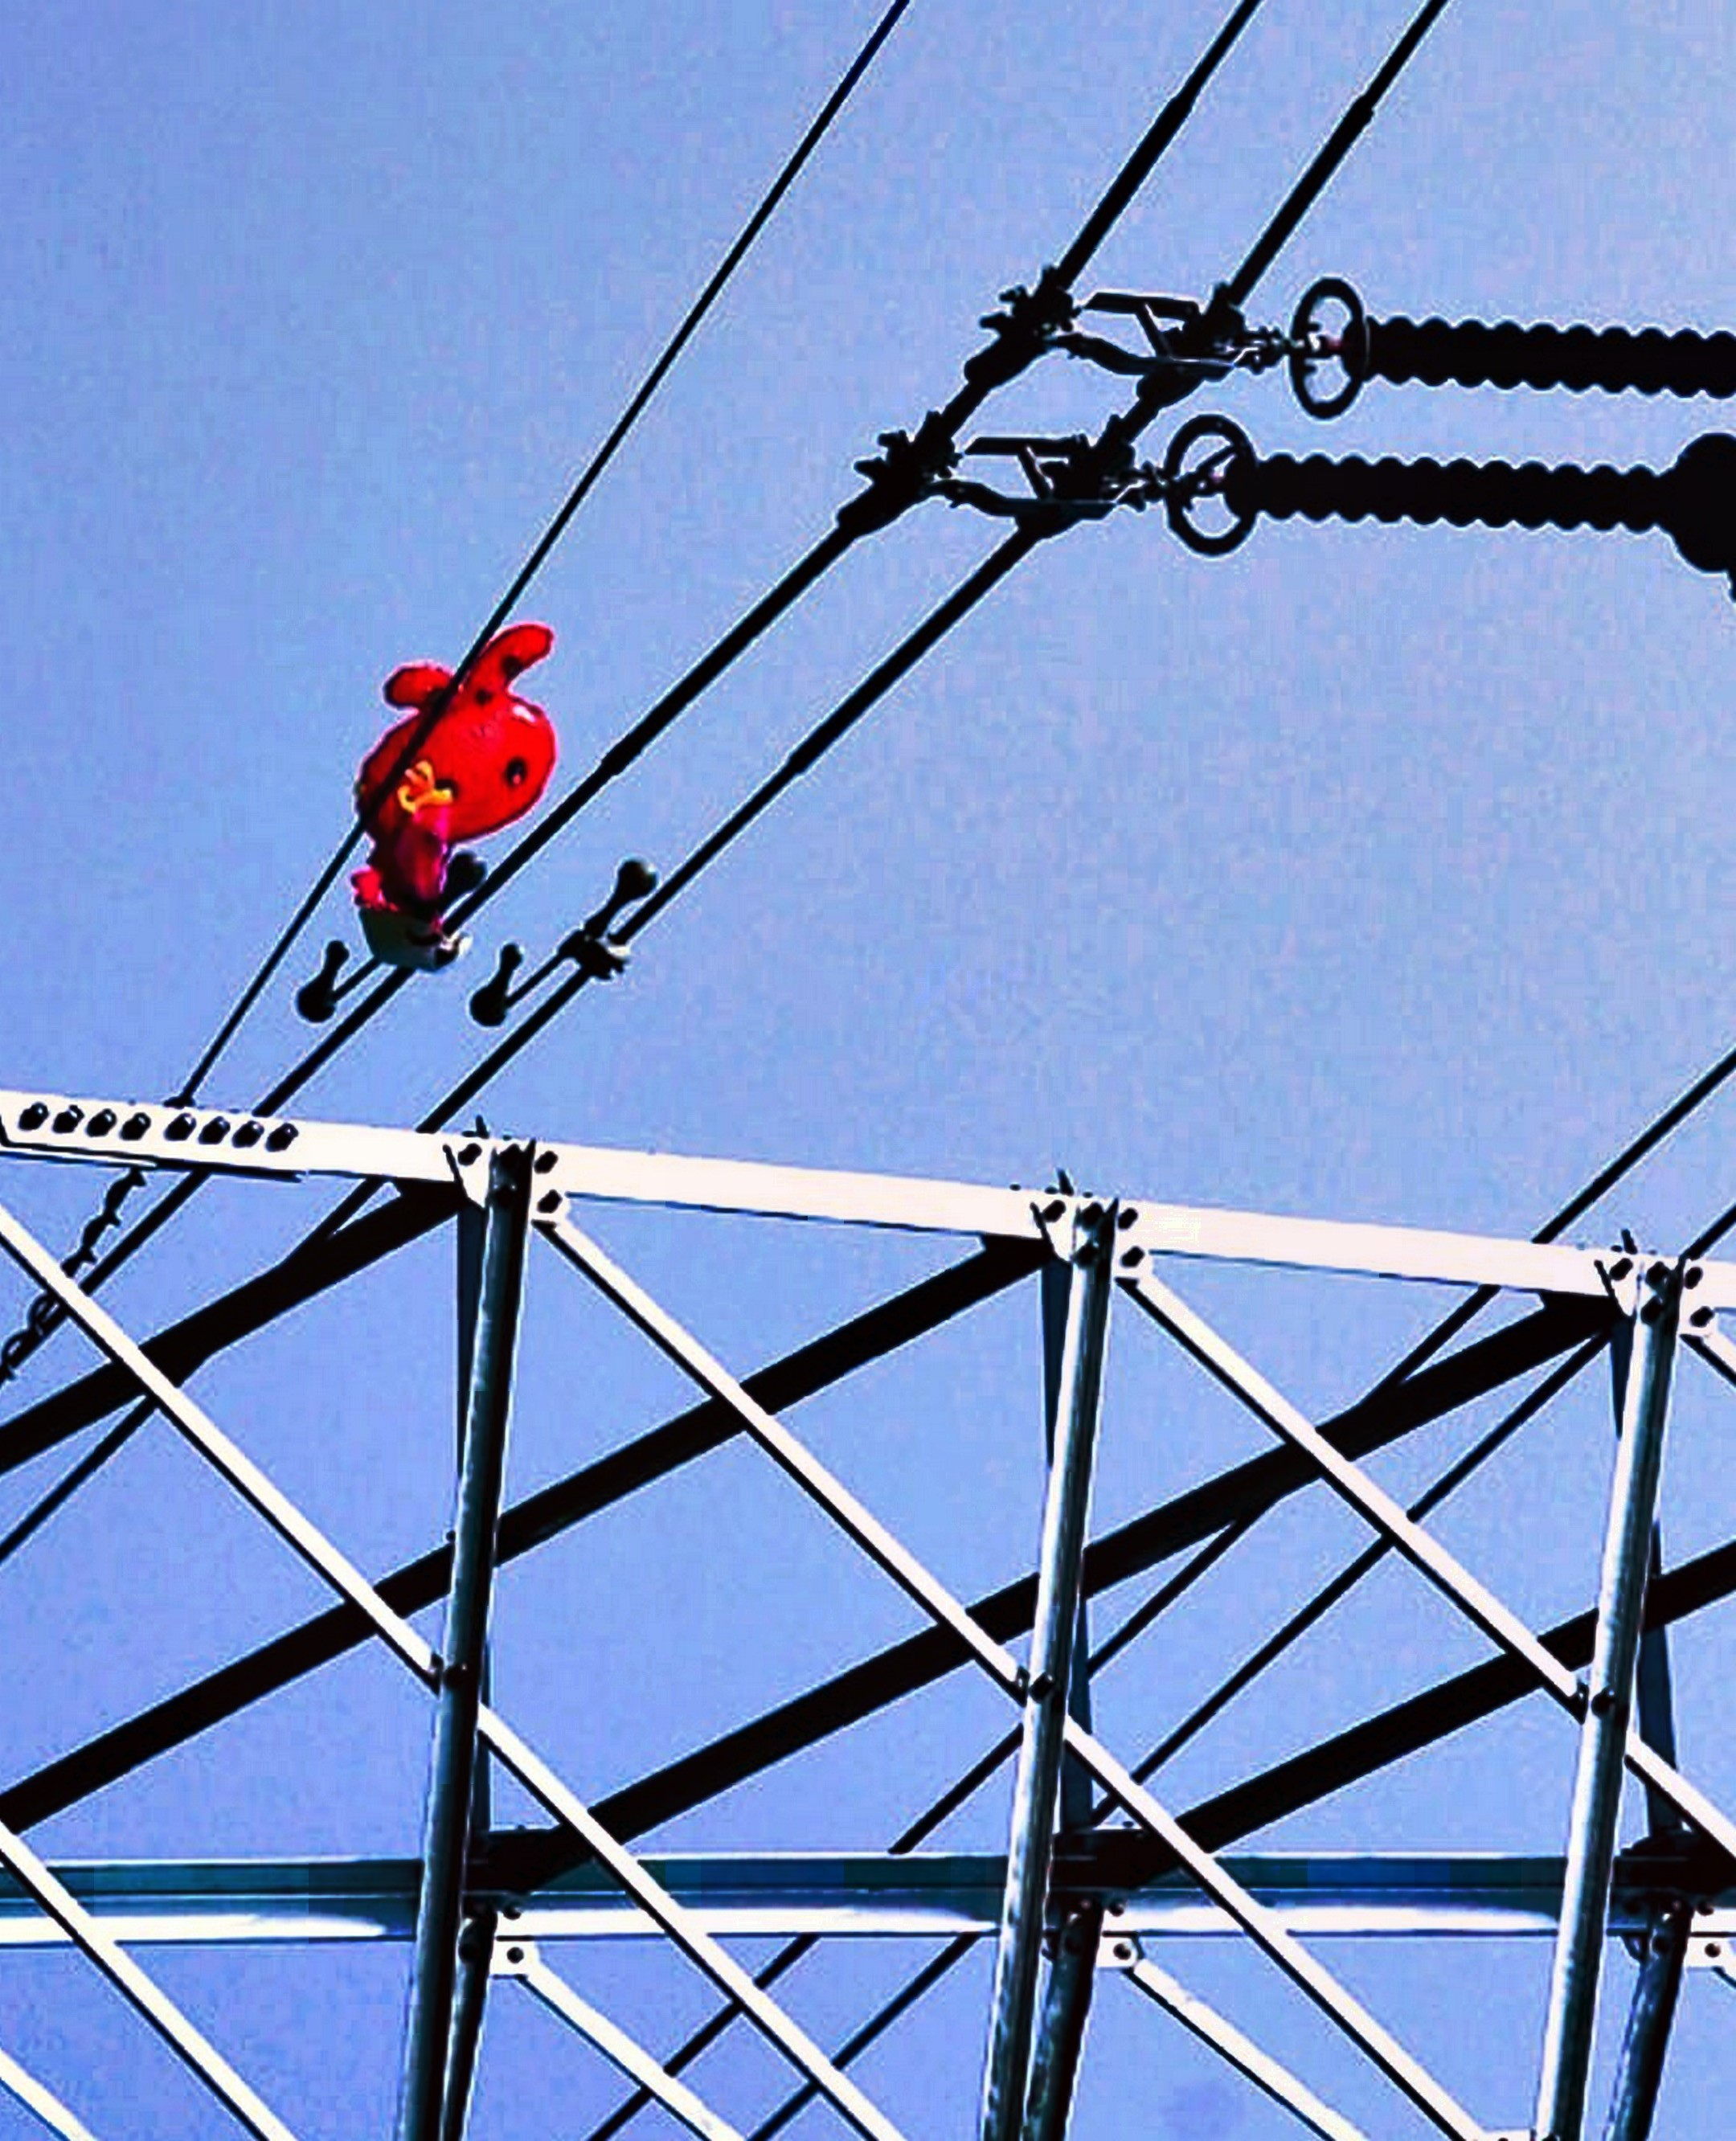wire foreign body: (296, 591, 595, 974)
